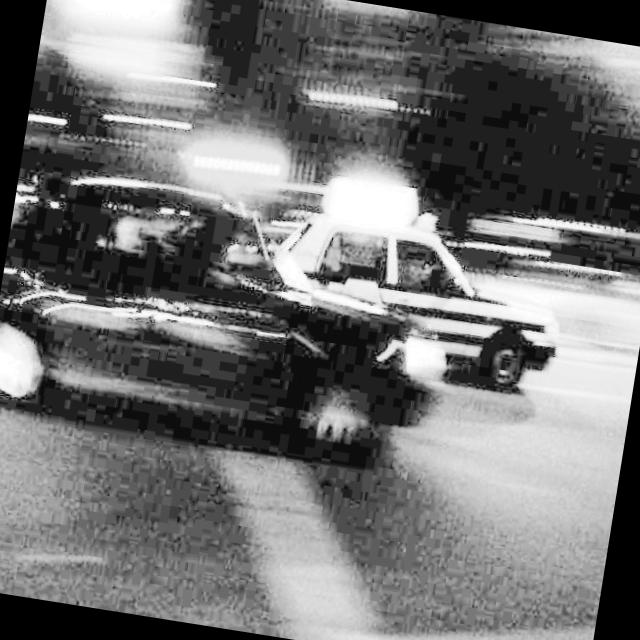Car: (0, 170, 454, 497), (249, 178, 607, 442)
